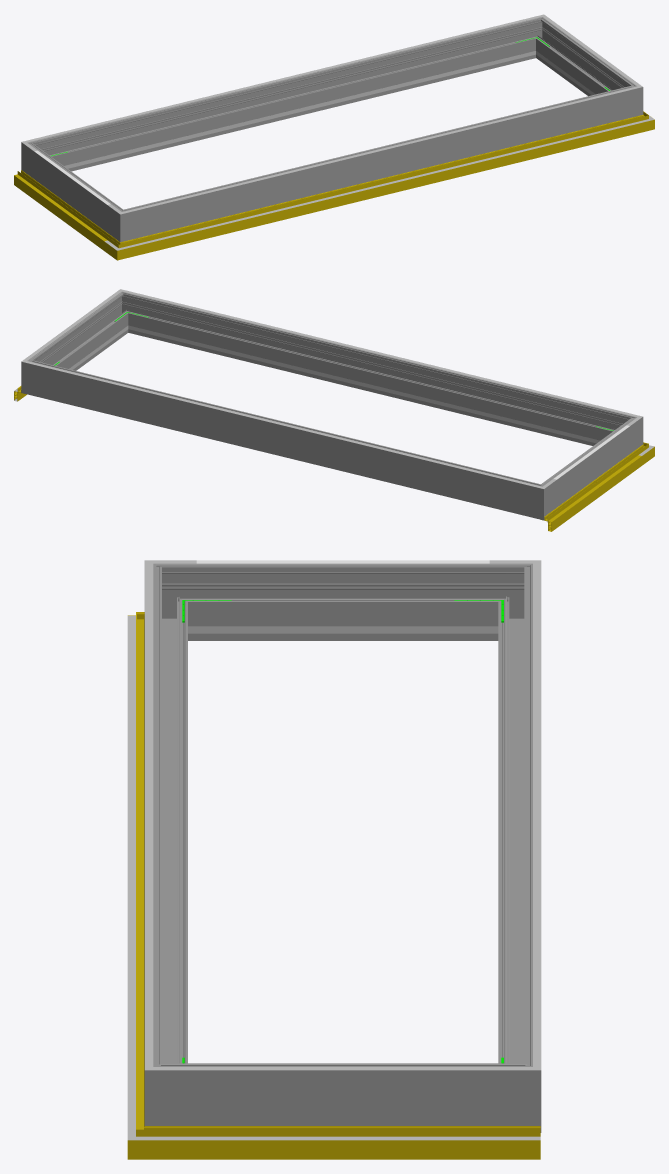
3 views of the same model, one above another, from view 1: azimuth 30°, elevation 25°; view 2: azimuth 150°, elevation 25°; view 3: azimuth 270°, elevation 25° (orthographic). The views are drawn at different scales.
Parts seen in each view (by area): view 1: 3DGeom-276, 3DGeom-298, 3DGeom-90, 3DGeom-297, 3DGeom-268, 3DGeom-244, 3DGeom-85, 3DGeom-100, 3DGeom-304, 3DGeom-316, 3DGeom-270, 3DGeom-290 (+5 smaller); view 2: 3DGeom-298, 3DGeom-276, 3DGeom-297, 3DGeom-268, 3DGeom-239, 3DGeom-85, 3DGeom-304, 3DGeom-316, 3DGeom-278, 3DGeom-284, 3DGeom-290, 3DGeom-270 (+1 smaller); view 3: 3DGeom-268, 3DGeom-297, 3DGeom-298, 3DGeom-276, 3DGeom-97, 3DGeom-90, 3DGeom-100, 3DGeom-304, 3DGeom-316, 3DGeom-290, 3DGeom-284, 3DGeom-278 (+6 smaller).
Boxes of the visible parts, x1,y1,x2,y2 form: 3DGeom-276: (45,21,532,171); 3DGeom-298: (139,89,620,236); 3DGeom-90: (135,118,632,254); 3DGeom-297: (538,25,626,96); 3DGeom-268: (34,149,114,232); 3DGeom-244: (72,56,514,167); 3DGeom-85: (14,170,111,250); 3DGeom-100: (138,123,631,245); 3DGeom-304: (44,20,523,137); 3DGeom-316: (141,91,620,208); 3DGeom-270: (107,203,142,242); 3DGeom-290: (617,78,643,119); 3DGeom-298: (132,296,618,445); 3DGeom-276: (43,364,525,514); 3DGeom-297: (38,299,125,370); 3DGeom-268: (550,424,630,506); 3DGeom-239: (150,331,591,442); 3DGeom-85: (542,451,641,531); 3DGeom-304: (44,365,523,483); 3DGeom-316: (141,294,620,412); 3DGeom-278: (521,478,556,520); 3DGeom-284: (21,353,47,398); 3DGeom-290: (111,291,140,333); 3DGeom-270: (610,413,643,453); 3DGeom-268: (196,563,489,640); 3DGeom-297: (196,1063,489,1125); 3DGeom-298: (144,582,187,1063); 3DGeom-276: (498,582,532,1063); 3DGeom-97: (179,1126,540,1159); 3DGeom-90: (136,630,144,1118); 3DGeom-100: (127,637,135,1118); 3DGeom-304: (533,582,541,1048); 3DGeom-316: (145,582,153,1048); 3DGeom-290: (144,1048,196,1125); 3DGeom-284: (489,1048,541,1132); 3DGeom-278: (489,563,532,640).
Bounding box in the file's own units: 3.66 × 0.2667 × 1.22.
